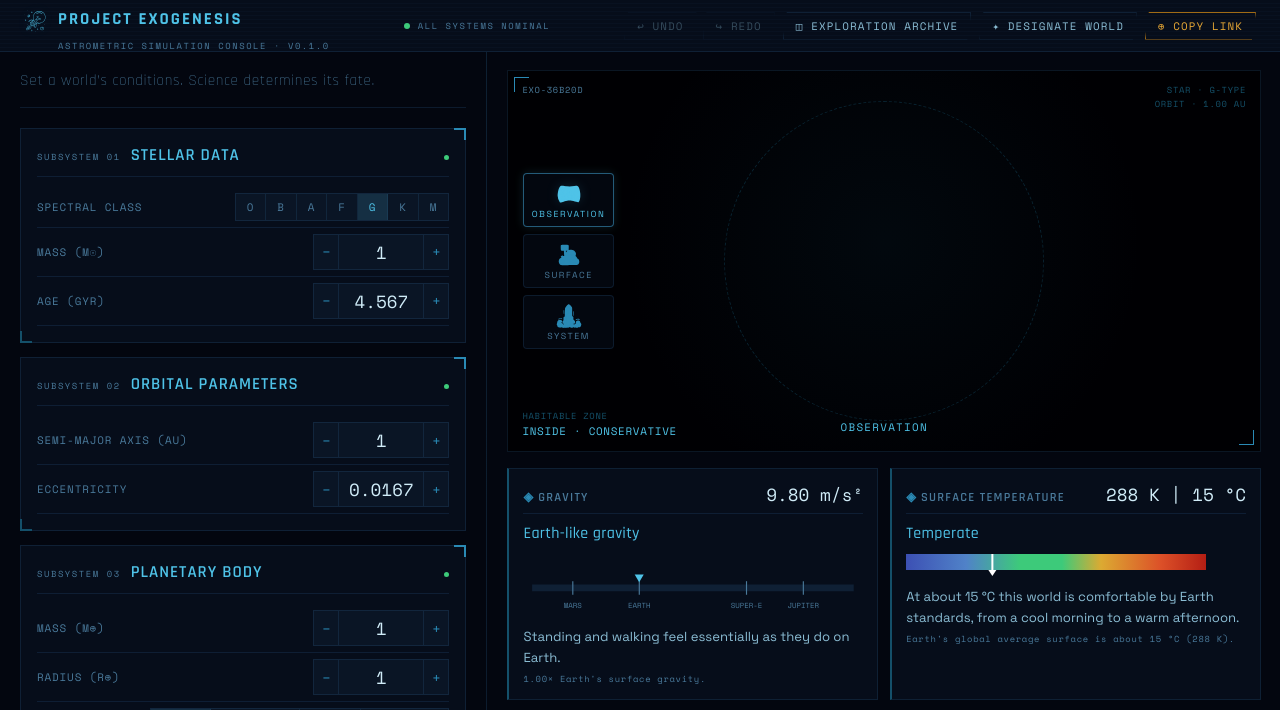
Test: App › designates the current world from the header and shows the name in the HUD
Check: the text "EXO-36B20D" is shown, box top-left (522, 83), bottom-right (583, 96)
Click the button "✦ Designate World".
click(1058, 26)  # box top-left (979, 12), bottom-right (1137, 40)
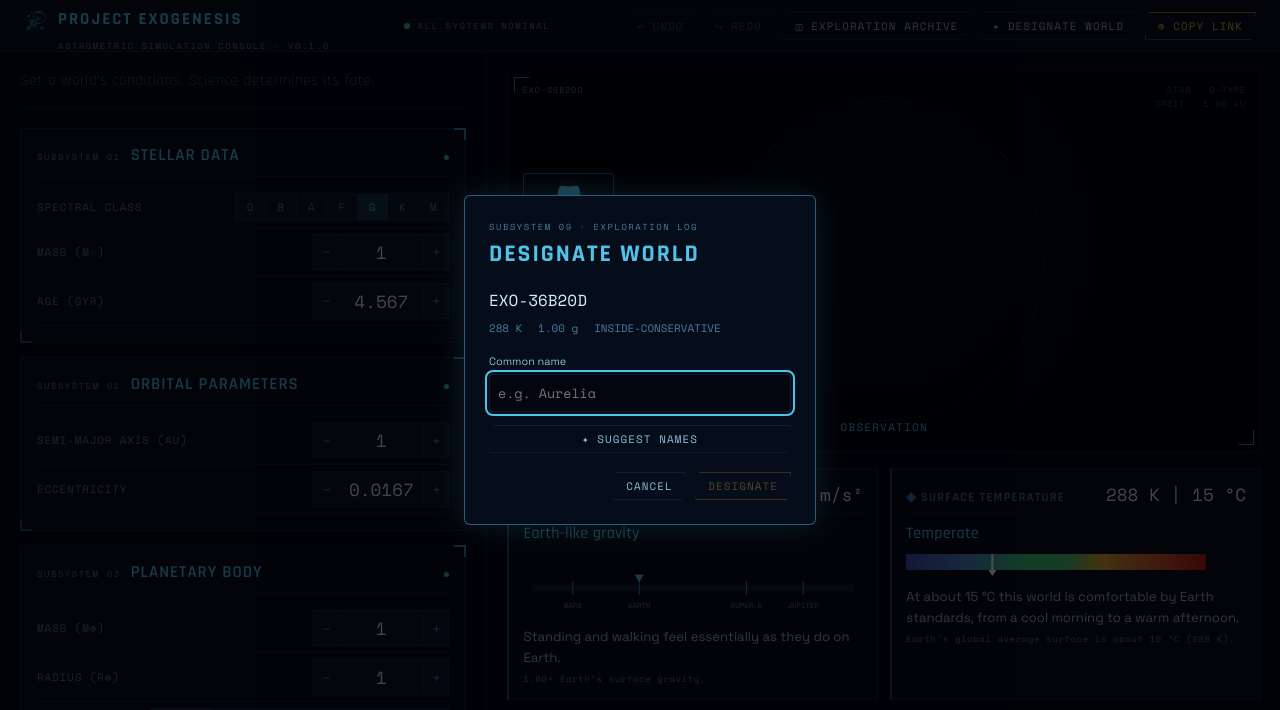
Type "Aurelia" into the field labelled "Common name".
click(640, 393); type("Aurelia")  # box top-left (489, 374), bottom-right (791, 412)
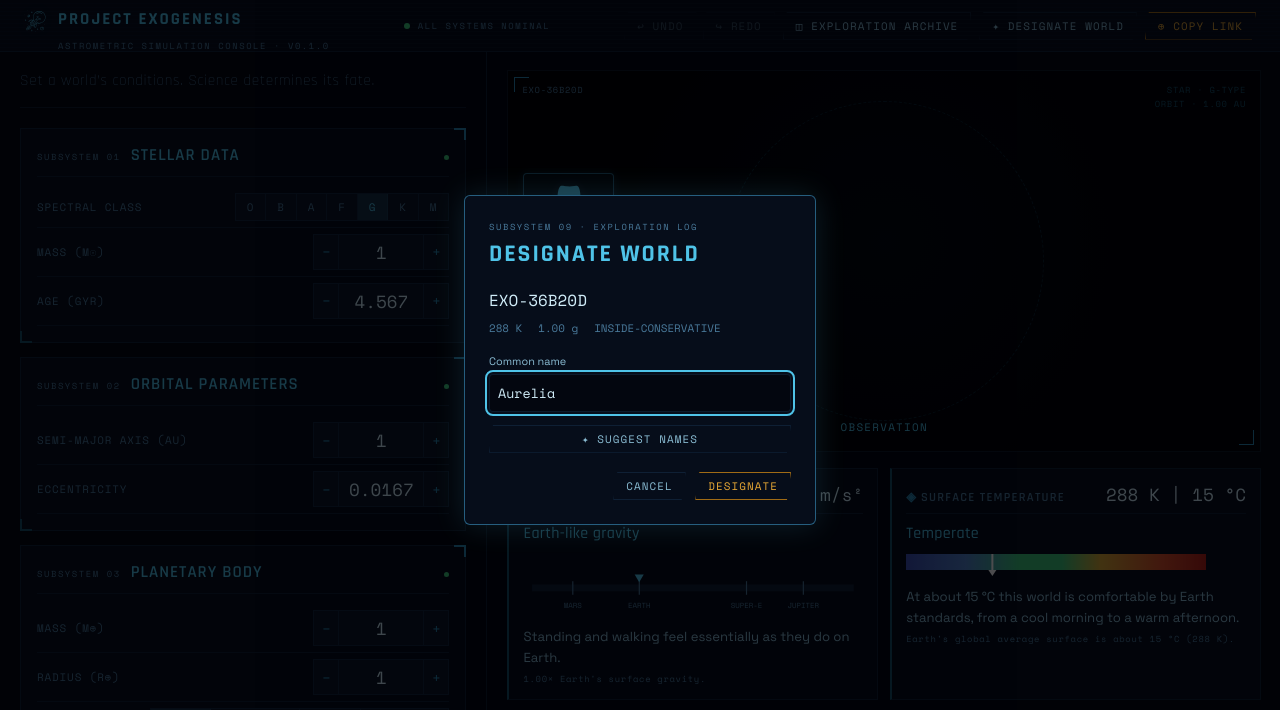
Click the button "Designate".
click(743, 486)  # box top-left (695, 472), bottom-right (791, 500)
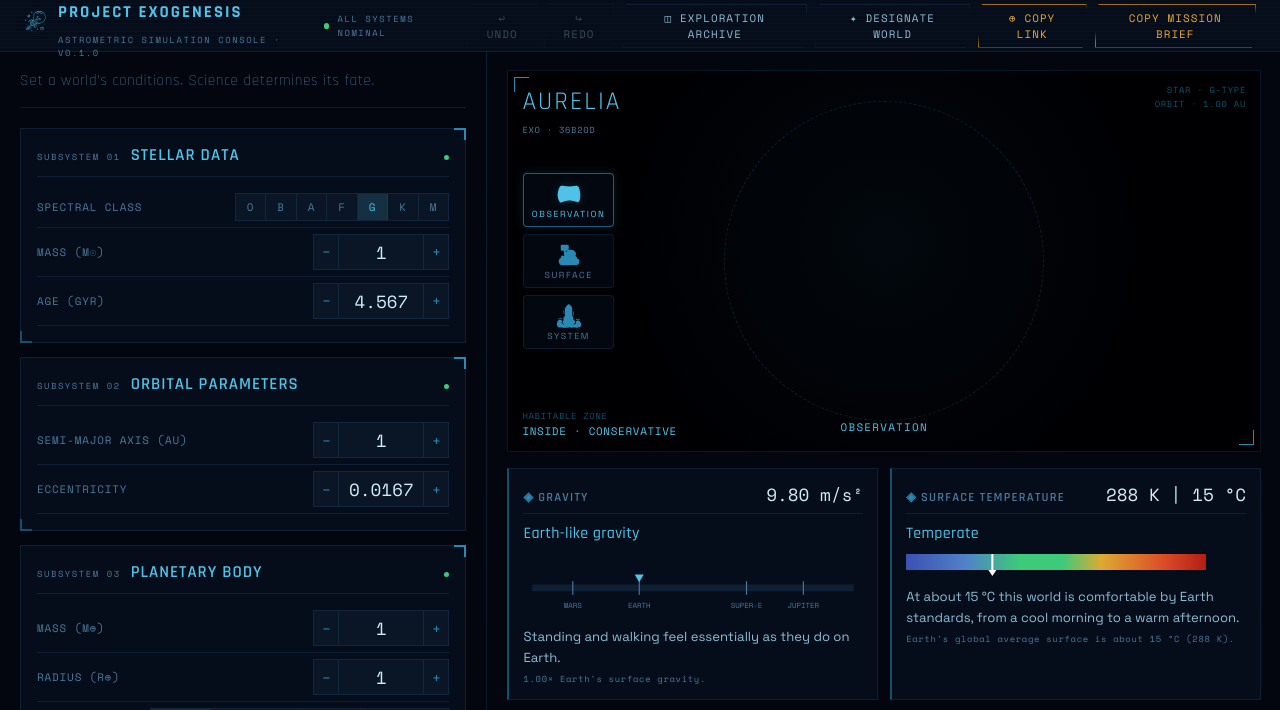
Check: the text "Aurelia" is shown, box top-left (522, 83), bottom-right (622, 121)
